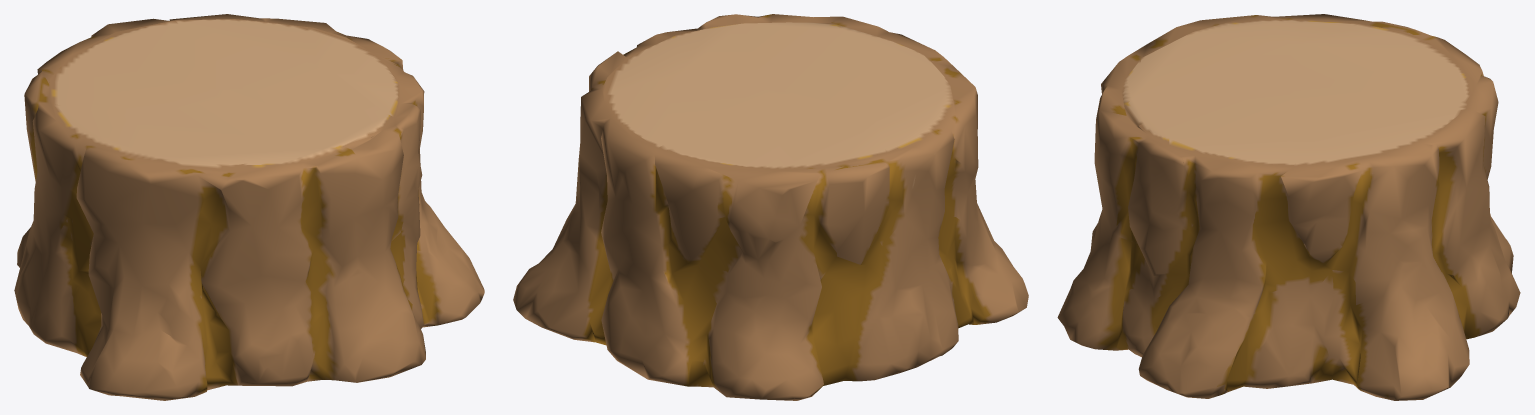
File: f-stump.glb
The picture shows the model from 3 angles, left to right: view 1: azimuth 30°, elevation 25°; view 2: azimuth 150°, elevation 25°; view 3: azimuth 270°, elevation 25°; orthographic projection.
Visible parts, largest first — view 1: tripo_node_bd04cf30-ab79-4aec-9f55-f78ca197c2e9; view 2: tripo_node_bd04cf30-ab79-4aec-9f55-f78ca197c2e9; view 3: tripo_node_bd04cf30-ab79-4aec-9f55-f78ca197c2e9.
Boxes of the visible parts, <box> form: tripo_node_bd04cf30-ab79-4aec-9f55-f78ca197c2e9: <box>14,14,484,400</box>; tripo_node_bd04cf30-ab79-4aec-9f55-f78ca197c2e9: <box>513,14,1028,400</box>; tripo_node_bd04cf30-ab79-4aec-9f55-f78ca197c2e9: <box>1057,14,1520,400</box>.
Size of the model in its own units: 0.9998 by 0.5151 by 1.
1 material, 1 textured.
